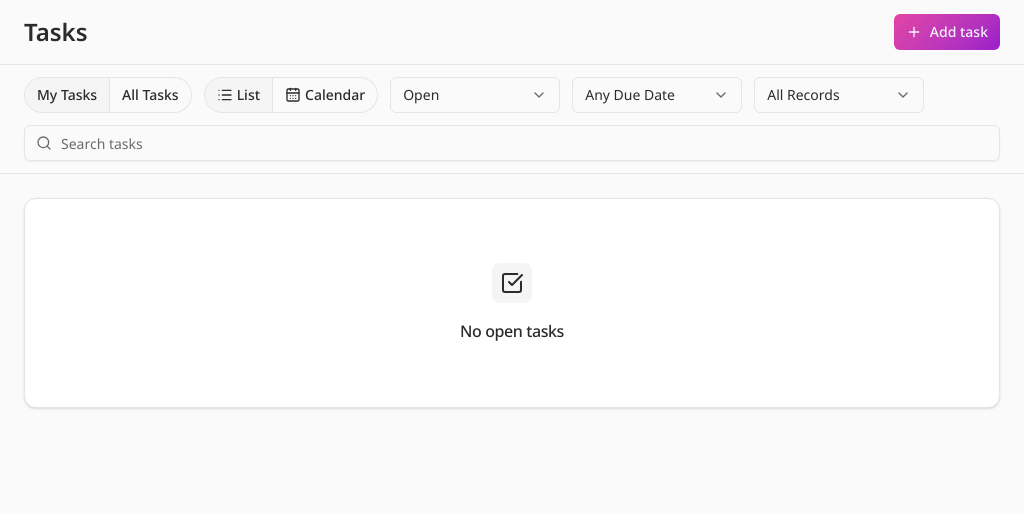
TasksPage › offers Clear filters when a search finds no tasks
Type "zzz" into the field labelled "Search tasks" at point(512, 143), box [24,125,1000,161]
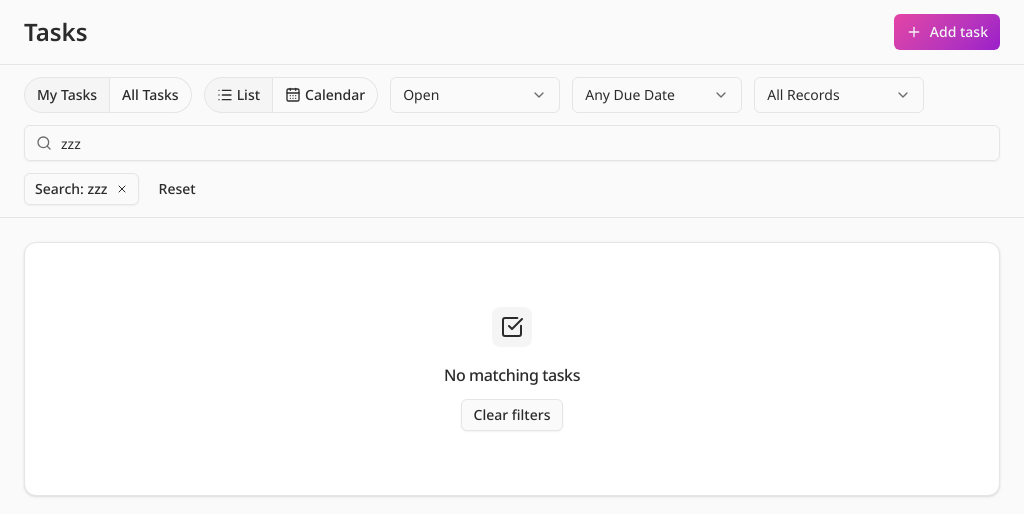
Now the text "No matching tasks" is shown, box [444,363,580,387]
Click the button "Clear filters" at point(512, 415), box [460,399,564,431]
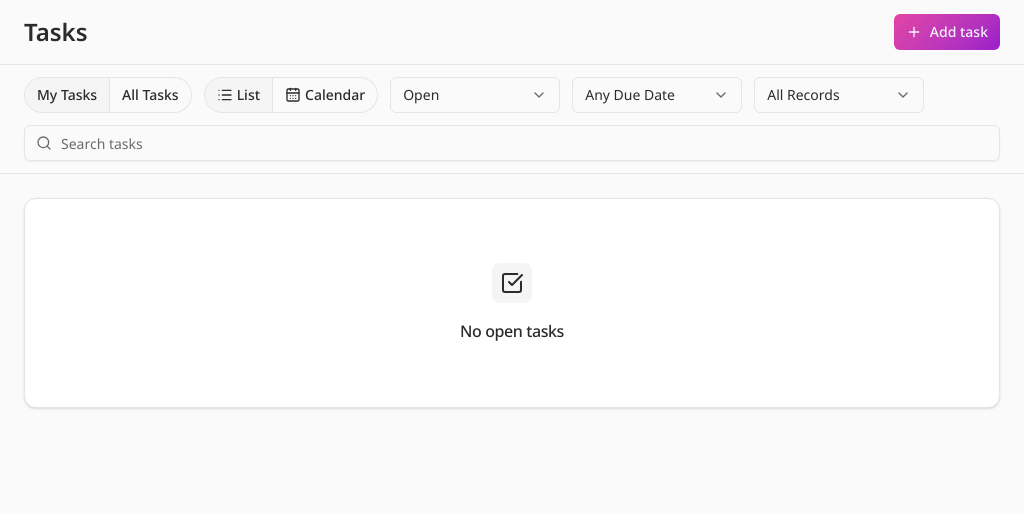
Now the field labelled "Search tasks" is empty, box [24,125,1000,161]
Now the text "No open tasks" is shown, box [460,319,564,343]
